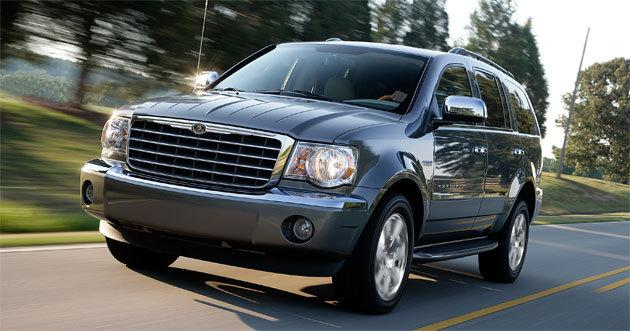Chrysler: (132, 110, 280, 149)
